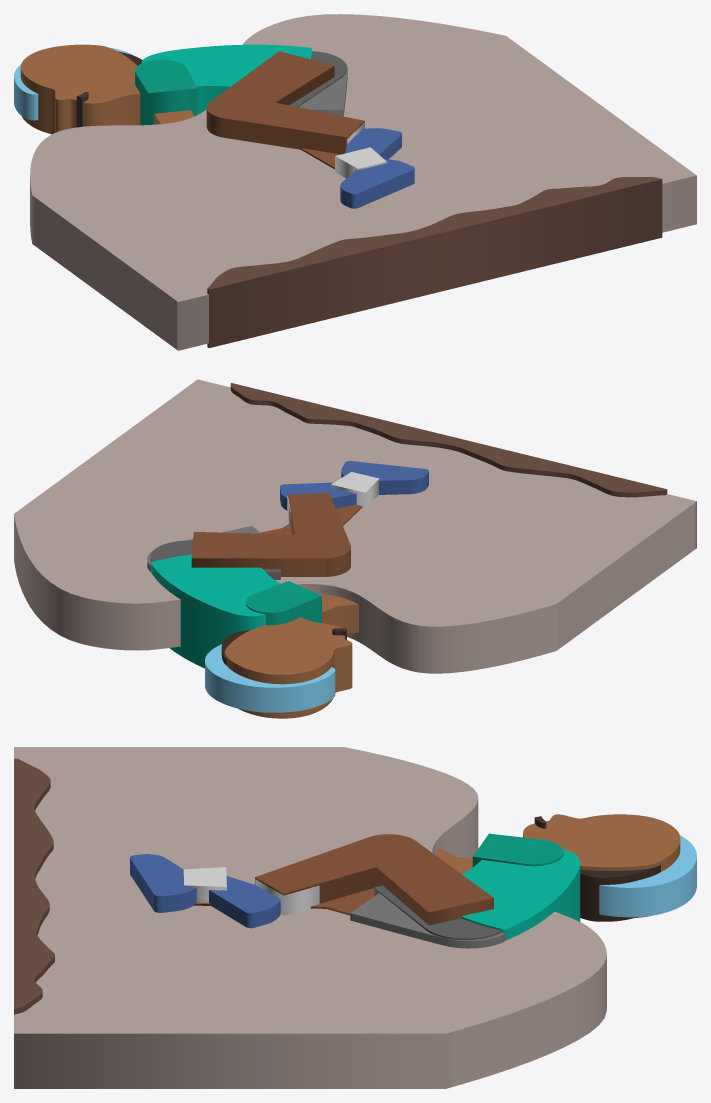
Rendered from emoji_u1f6b5_1f3fe_200d_2642.glb.
The picture shows the model from 3 angles, top to bottom: view 1: azimuth 30°, elevation 25°; view 2: azimuth 150°, elevation 25°; view 3: azimuth 270°, elevation 25°; orthographic projection. The views are drawn at different scales.
Parts seen in each view (by area): view 1: emoji_u1f6b5_1f3fe_200d_2642; view 2: emoji_u1f6b5_1f3fe_200d_2642; view 3: emoji_u1f6b5_1f3fe_200d_2642.
Boxes of the visible parts, x1,y1,x2,y2 form: emoji_u1f6b5_1f3fe_200d_2642: [14, 14, 696, 350]; emoji_u1f6b5_1f3fe_200d_2642: [14, 379, 696, 718]; emoji_u1f6b5_1f3fe_200d_2642: [14, 747, 696, 1088].
Size of the model in its own units: 0.0334 by 0.0054 by 0.0336.
